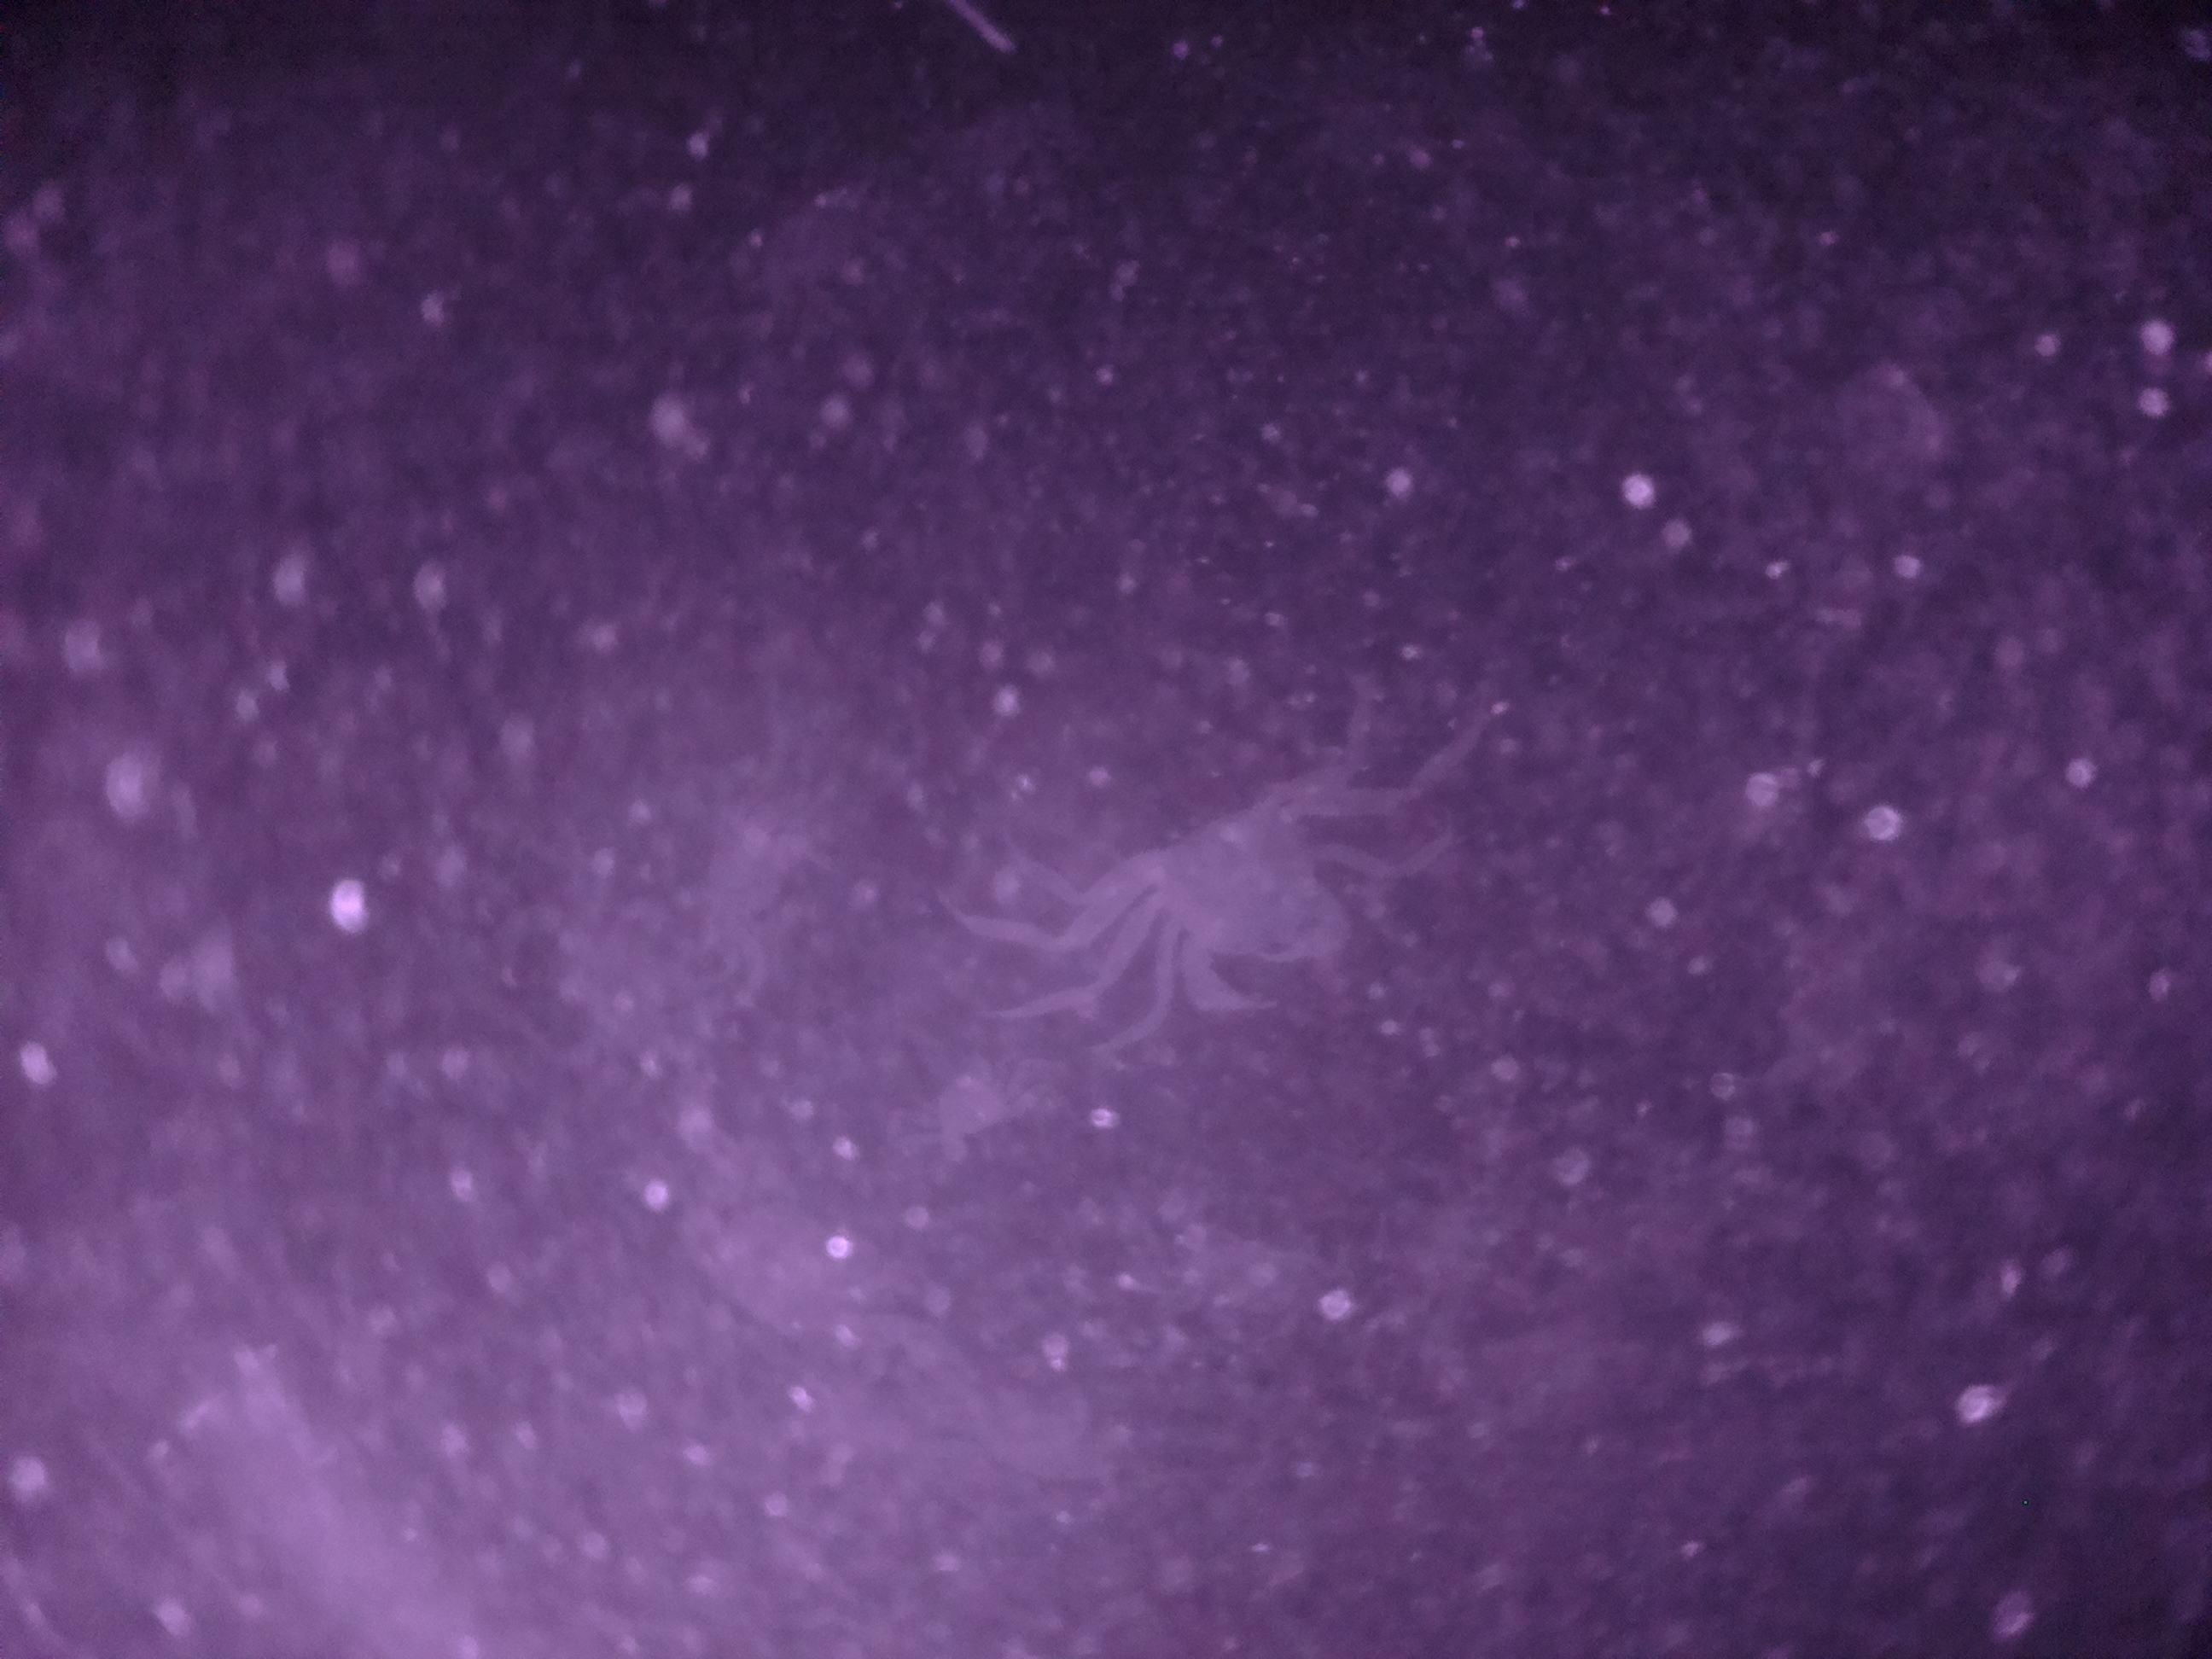Crab: (1115, 725, 1383, 1035)
